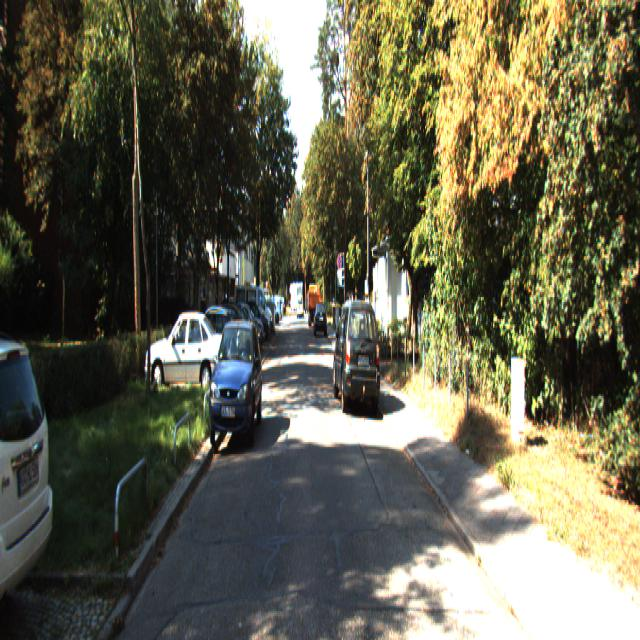Car: (0, 334, 61, 639), (144, 308, 226, 399), (210, 317, 264, 448), (333, 291, 381, 414), (235, 282, 275, 336), (308, 284, 323, 329)
